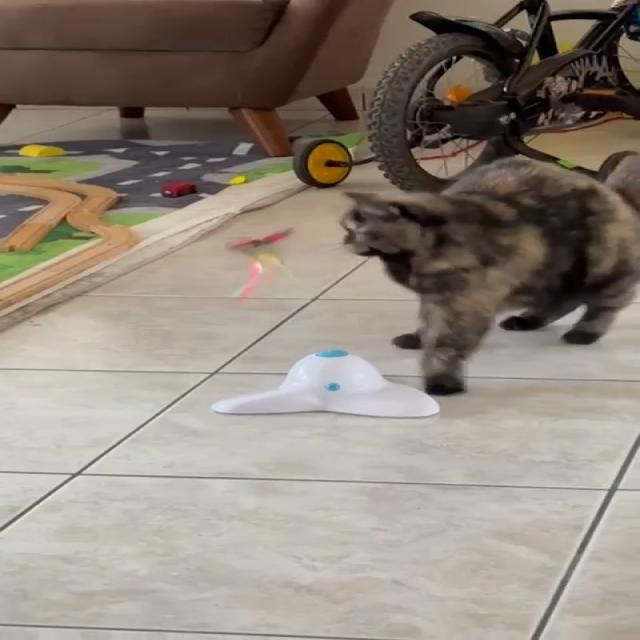authorized: (337, 152, 639, 396)
